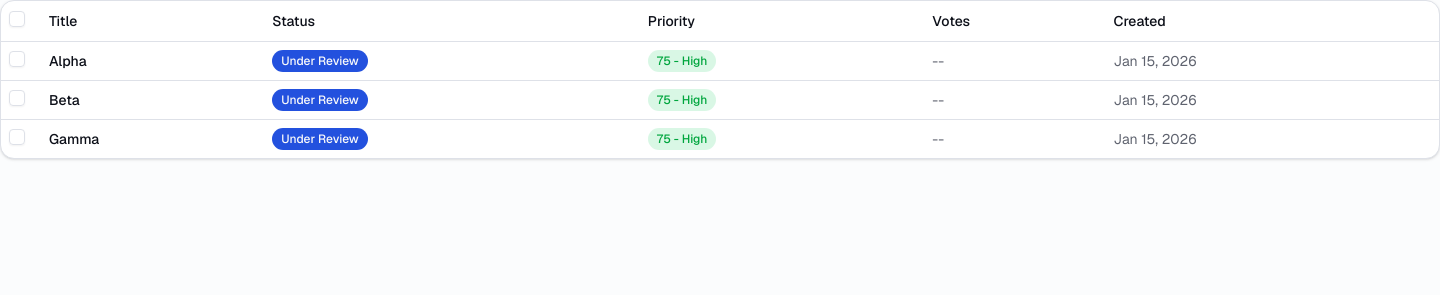
Test case: BulkRequestTable › selection › should toggle all rows with the header checkbox
Click the checkbox named "select all" at x=17, y=19, box [9, 11, 25, 27]
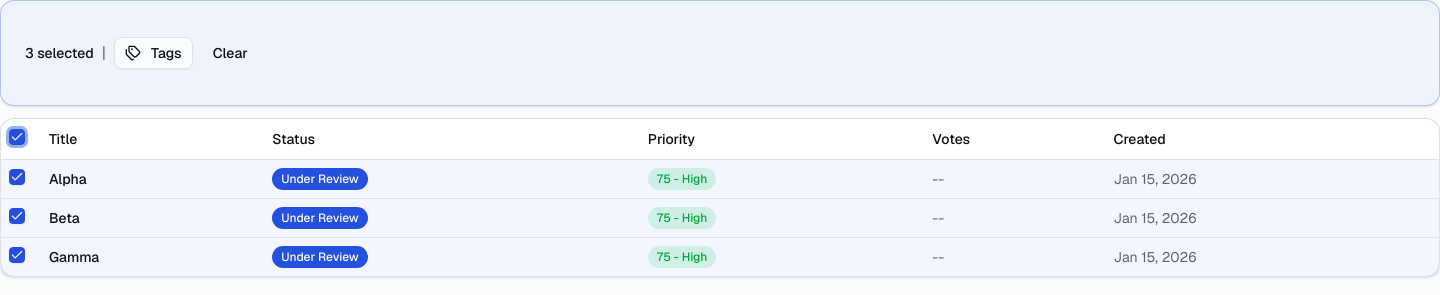
Now the text "3 selected" is shown, box [25, 43, 94, 63]
Click the checkbox named "select all" at x=17, y=137, box [9, 129, 25, 145]
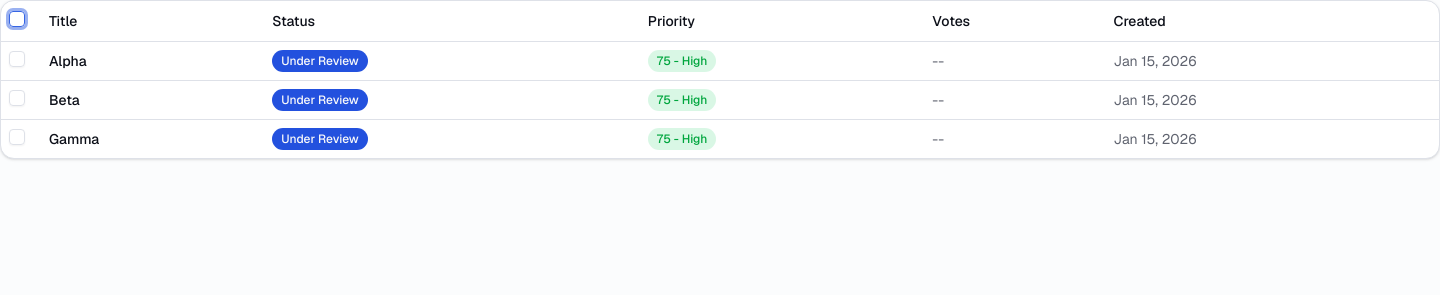
Now the text "selected" is gone
